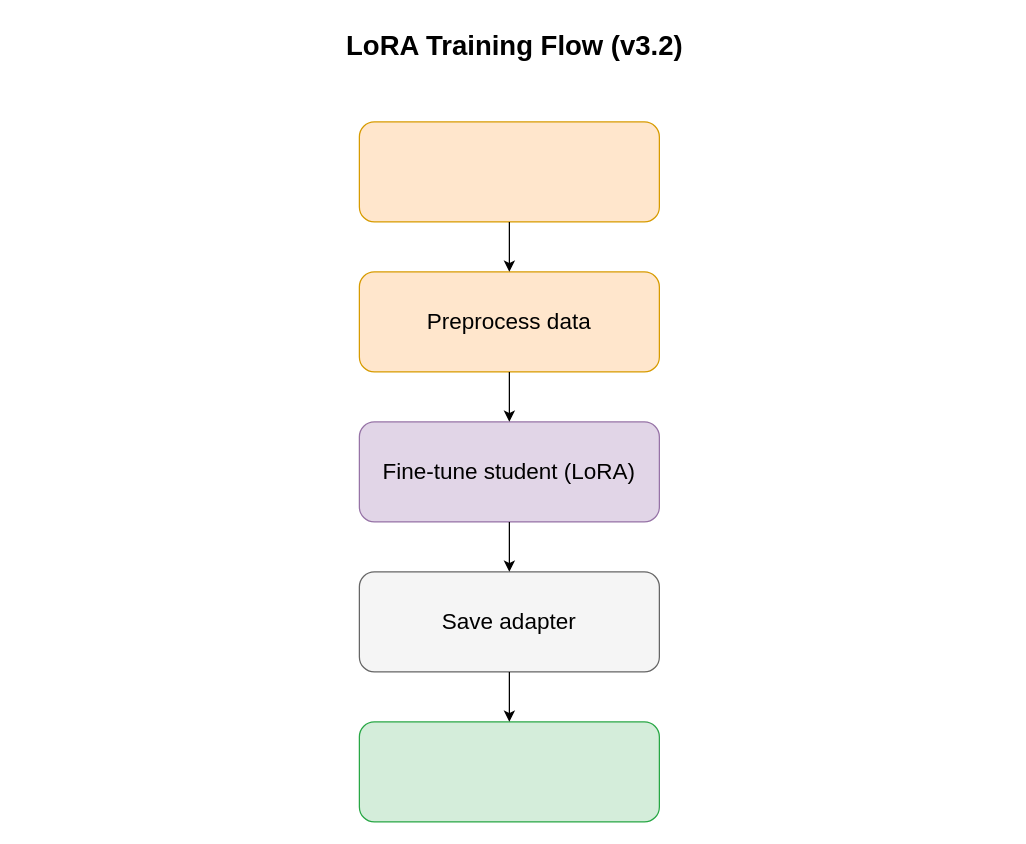
This 1026x844 diagram has some shape labels left out. Here are the shapes that lost their labels. From the top down, the centre of each, then its label:
the point at 508,171: Distil teacher model
the point at 508,771: Deploy to inference server
